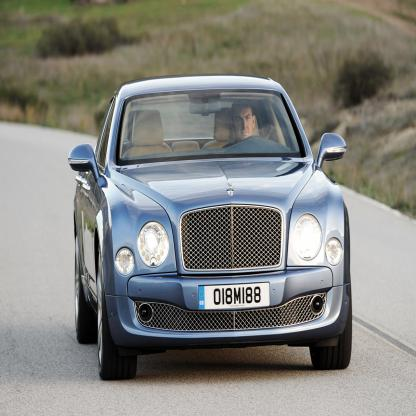Vehicle: (71, 71, 354, 377)
